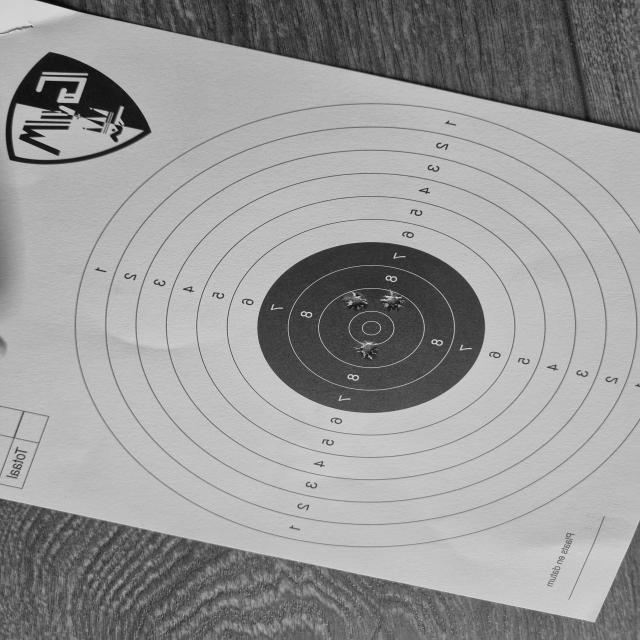10: (354, 342, 381, 359)
9: (381, 292, 406, 312), (343, 291, 368, 310)
Target: (76, 102, 640, 549)
black_contour: (257, 242, 485, 414)
